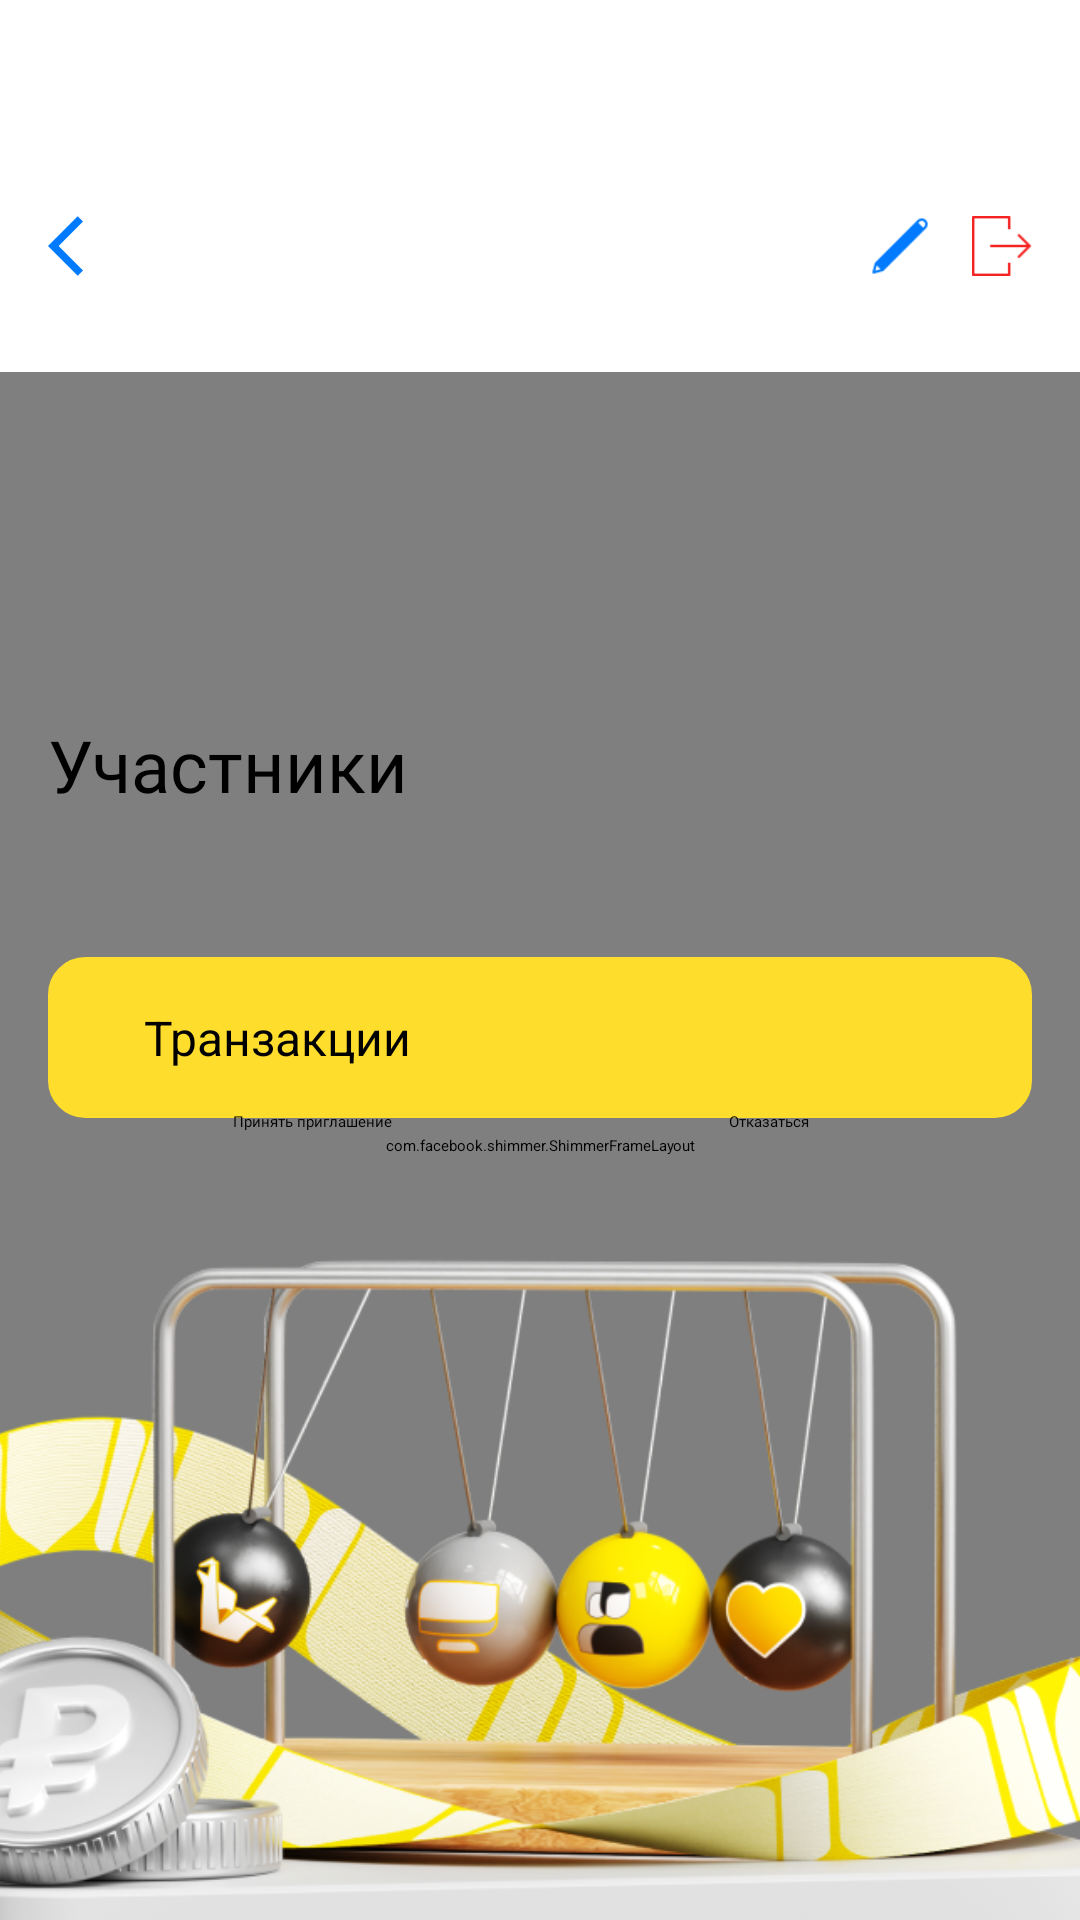

Screen size 1080 x 1920. Icon name, then its center in pixels as (x,y):
back: (65,246)
edit: (900,246)
leave: (1001,246)
